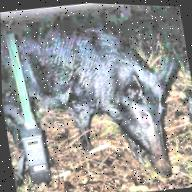boar: (25, 6, 191, 192)
